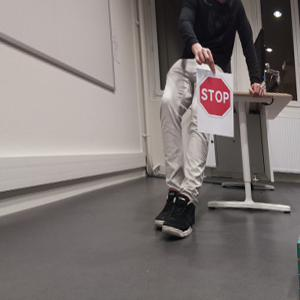stop: (197, 75, 232, 117)
